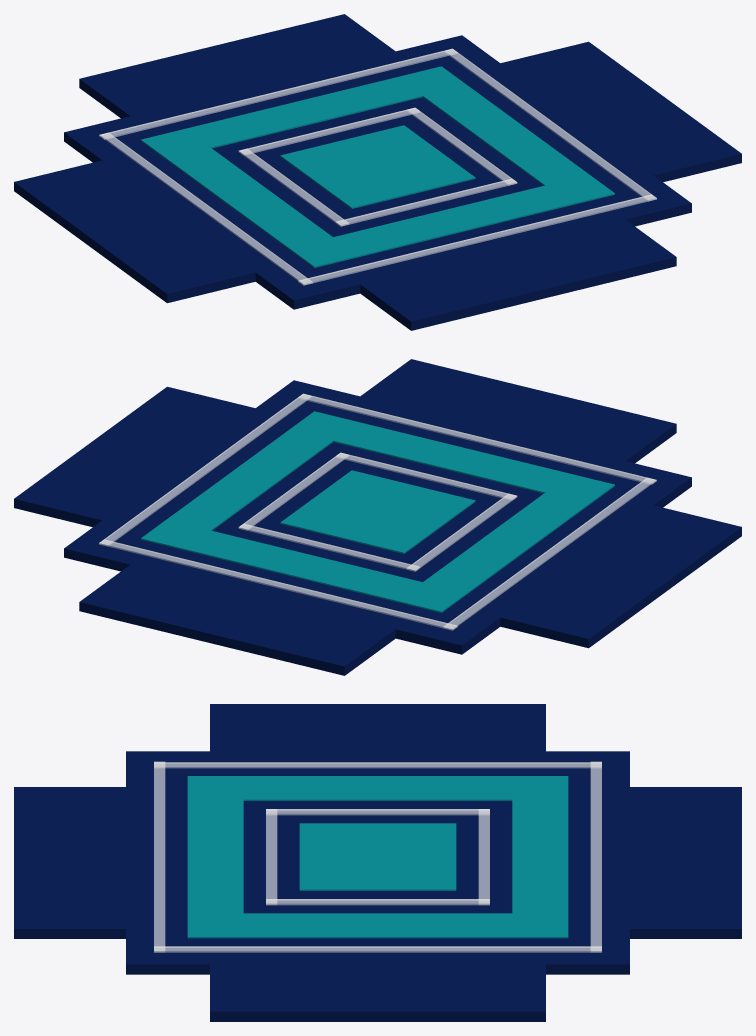
File: Warp.fbx
3 views of the same model, one above another, from view 1: azimuth 30°, elevation 25°; view 2: azimuth 150°, elevation 25°; view 3: azimuth 270°, elevation 25° (orthographic). The views are drawn at different scales.
Visible parts, largest first — view 1: pCube5, pCube17, pCube16, pCube15, pCube18, pCube14, pCube6, pCube13, pCube11, pCube12, pCube3, pCube4 (+6 smaller); view 2: pCube5, pCube18, pCube16, pCube15, pCube17, pCube14, pCube6, pCube12, pCube11, pCube13, pCube4, pCube3 (+6 smaller); view 3: pCube5, pCube15, pCube17, pCube18, pCube16, pCube14, pCube11, pCube12, pCube13, pCube6, pCube2, pCube1 (+6 smaller).
Part boxes in pixels (<box>): pCube5: <box>64,35,691,309</box>; pCube17: <box>360,219,676,330</box>; pCube16: <box>14,160,255,303</box>; pCube15: <box>500,41,741,182</box>; pCube18: <box>79,14,395,118</box>; pCube14: <box>280,125,475,208</box>; pCube6: <box>397,66,614,204</box>; pCube13: <box>141,66,464,159</box>; pCube11: <box>141,134,358,267</box>; pCube12: <box>289,174,614,266</box>; pCube3: <box>298,194,656,285</box>; pCube4: <box>99,49,457,139</box>; pCube5: <box>64,380,691,654</box>; pCube18: <box>79,564,395,675</box>; pCube16: <box>500,505,741,648</box>; pCube15: <box>14,386,255,527</box>; pCube17: <box>360,359,676,463</box>; pCube14: <box>280,470,475,553</box>; pCube6: <box>141,411,357,550</box>; pCube12: <box>290,412,613,504</box>; pCube11: <box>397,482,614,612</box>; pCube13: <box>141,519,466,612</box>; pCube4: <box>99,539,457,630</box>; pCube3: <box>298,394,656,484</box>; pCube5: <box>126,751,629,974</box>; pCube15: <box>210,964,545,1021</box>; pCube17: <box>14,787,125,938</box>; pCube18: <box>630,787,741,938</box>; pCube16: <box>210,704,545,751</box>; pCube14: <box>299,823,456,890</box>; pCube11: <box>187,776,568,800</box>; pCube12: <box>187,776,243,938</box>; pCube13: <box>512,776,568,938</box>; pCube6: <box>187,913,568,938</box>; pCube2: <box>154,946,601,952</box>; pCube1: <box>154,762,601,768</box>.
Bounding box in the file's own units: 6.5 × 0.115 × 6.5.
